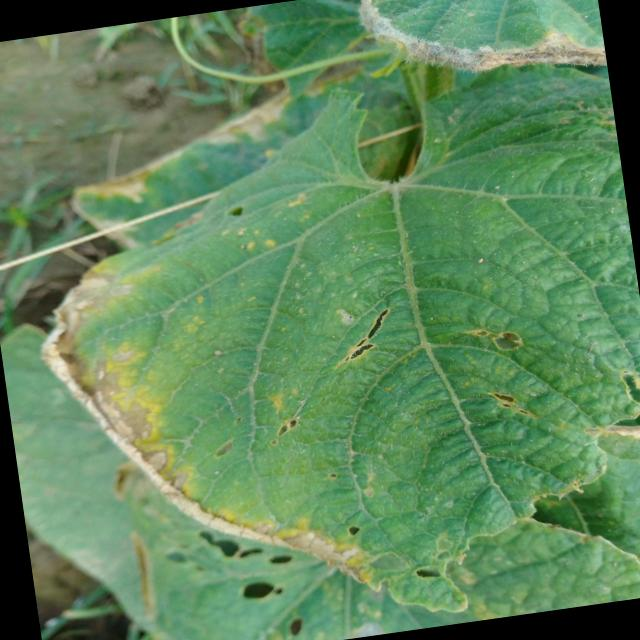cucumber_gummy: (0, 51, 640, 640), (348, 0, 607, 96)
